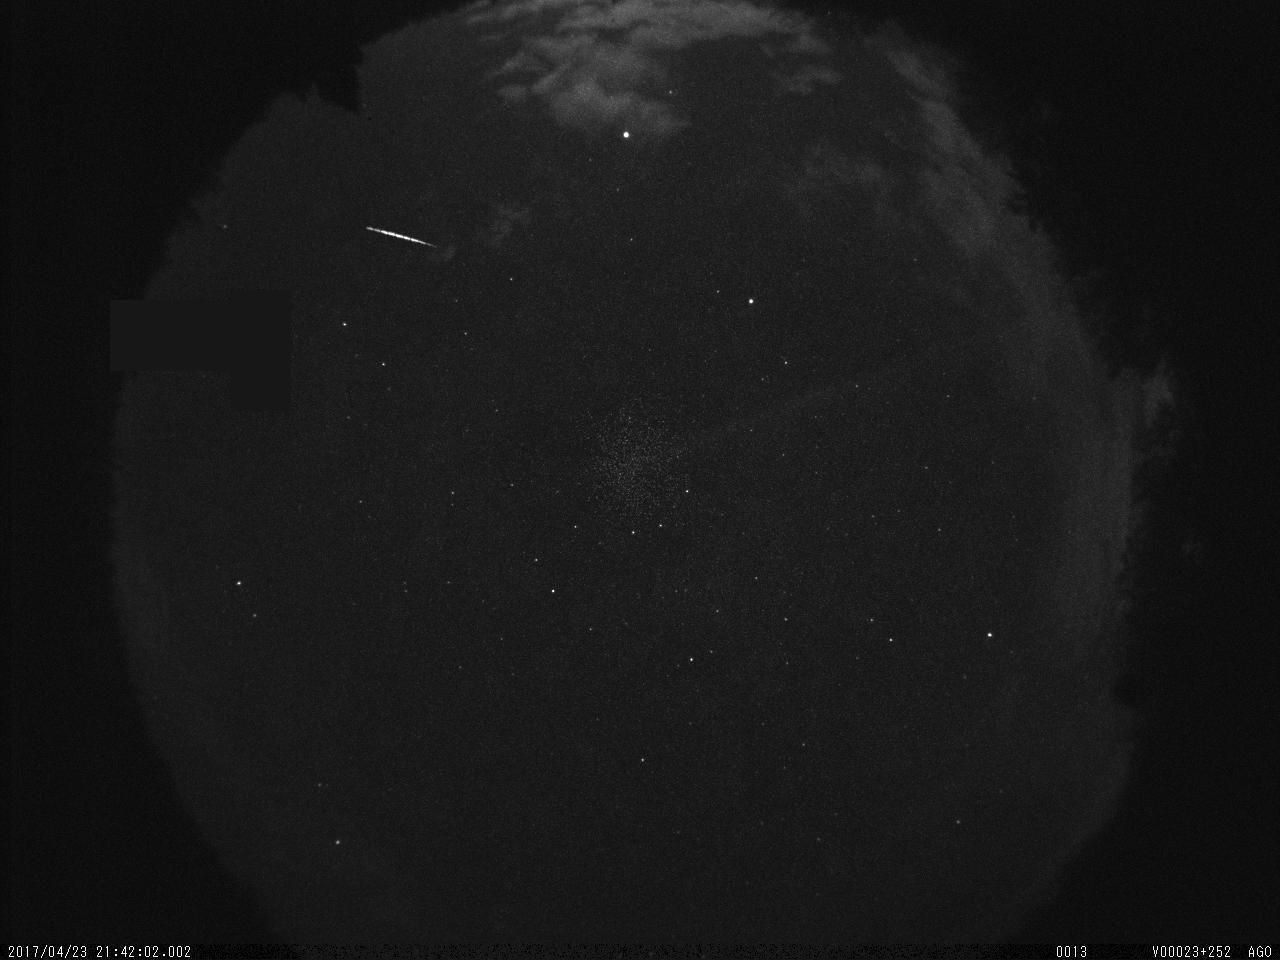meteor: (353, 214, 450, 257)
